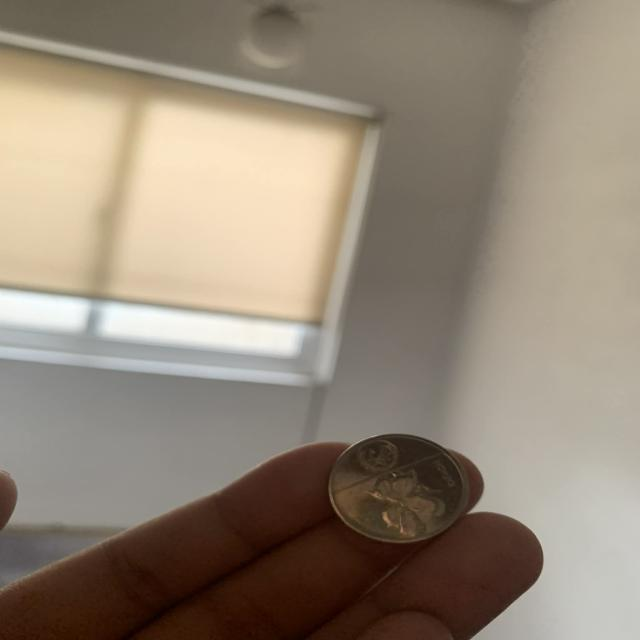25 cents: (323, 427, 483, 548)
